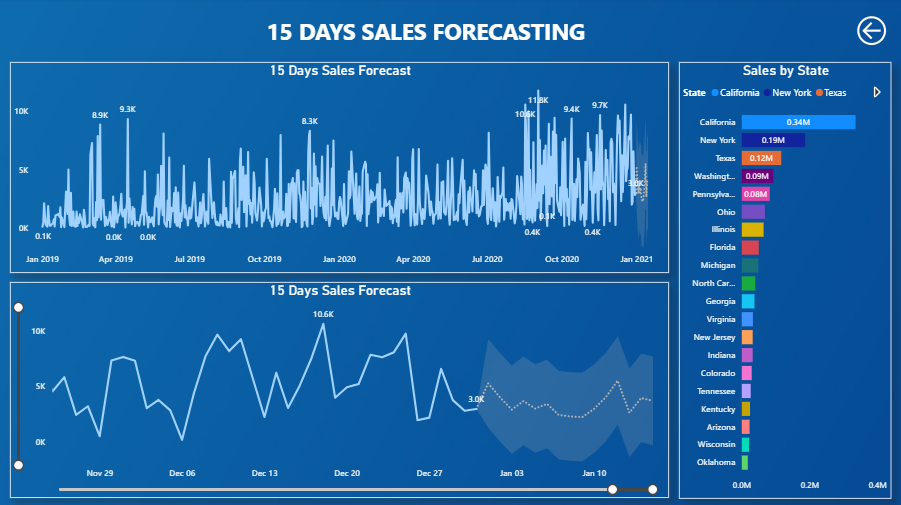

The page's visual inventory and layout, read from the dashboard file:
{"tool":"powerbi","page":{"name":"Forecast","canvas":[1280,720],"ordinal":1},"visuals":[{"type":"lineChart","title":"15 Days Sales Forecast","fields":{"Category":["Sales_Dataset_proj2.Order Date"],"Y":["Sum(Sales_Dataset_proj2.Sales)"]},"box":[17.1,90,934.3,298.6],"z":0},{"type":"textbox","box":[17.1,20,1178.6,52.9],"z":1000},{"type":"lineChart","title":"15 Days Sales Forecast","fields":{"Category":["Sales_Dataset_proj2.Order Date"],"Y":["Sum(Sales_Dataset_proj2.Sales)"]},"box":[17.1,402.9,934.3,305.7],"z":2000},{"type":"barChart","title":"Sales by State","fields":{"Series":["Sales_Dataset_proj2.State"],"Category":["Sales_Dataset_proj2.State"],"Y":["Sum(Sales_Dataset_proj2.Sales)"]},"box":[965.7,90,301.4,618.6],"z":3000},{"type":"actionButton","box":[1211.4,20,55.7,52.9],"z":4000}]}

Visuals, with their boxes in screenshot pixels (x1, y1, x2, y2), scaled from the page's 1280x720 canvas onto the 901x505 screenshot:
"15 Days Sales Forecast" lineChart: left=12, top=63, right=670, bottom=273
textbox: left=12, top=14, right=842, bottom=51
"15 Days Sales Forecast" lineChart: left=12, top=283, right=670, bottom=497
"Sales by State" barChart: left=680, top=63, right=892, bottom=497
actionButton: left=853, top=14, right=892, bottom=51
